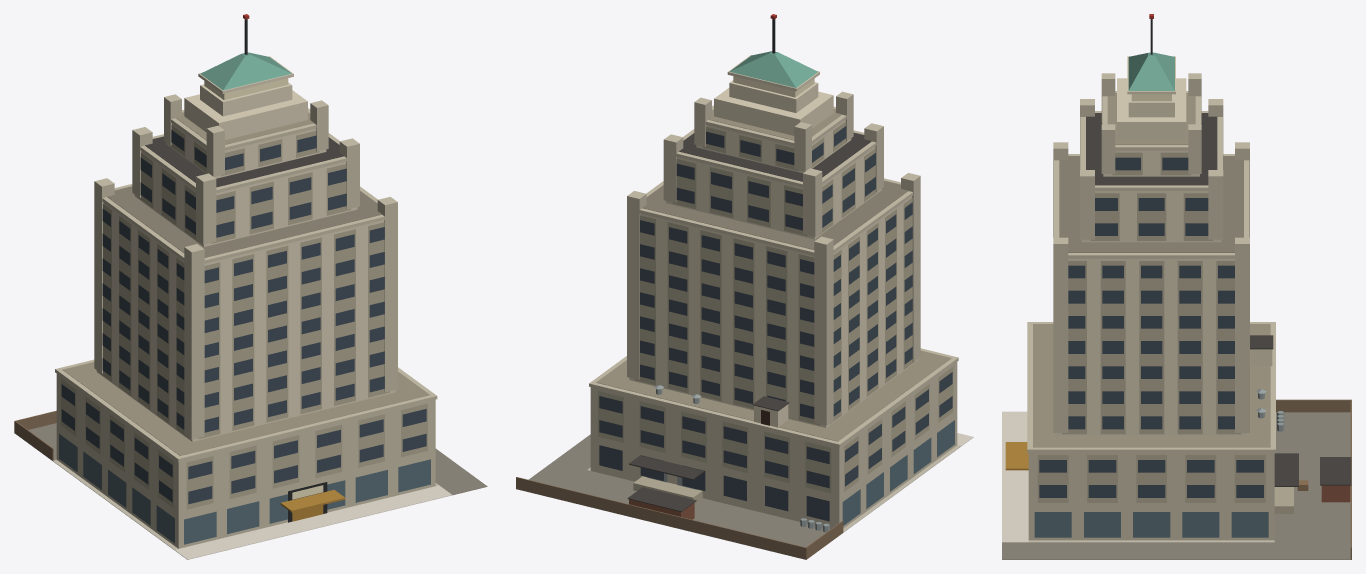
The model's file is tower_t.glb.
The picture shows the model from 3 angles, left to right: view 1: azimuth 30°, elevation 25°; view 2: azimuth 150°, elevation 25°; view 3: azimuth 270°, elevation 25°; orthographic projection. The views are drawn at different scales.
Visible parts, largest first — view 1: tower_t; view 2: tower_t; view 3: tower_t.
Part boxes in pixels (x1,y1,x2,y2): tower_t: [14, 14, 487, 559]; tower_t: [516, 14, 973, 559]; tower_t: [1002, 14, 1351, 559].
Size of the model in its own units: 30 by 43.77 by 30.
